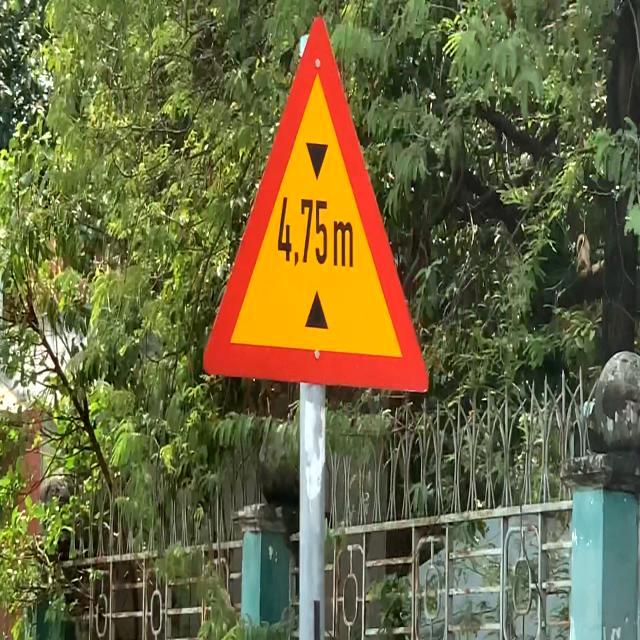Chieu cao an toan: (201, 13, 430, 394)
